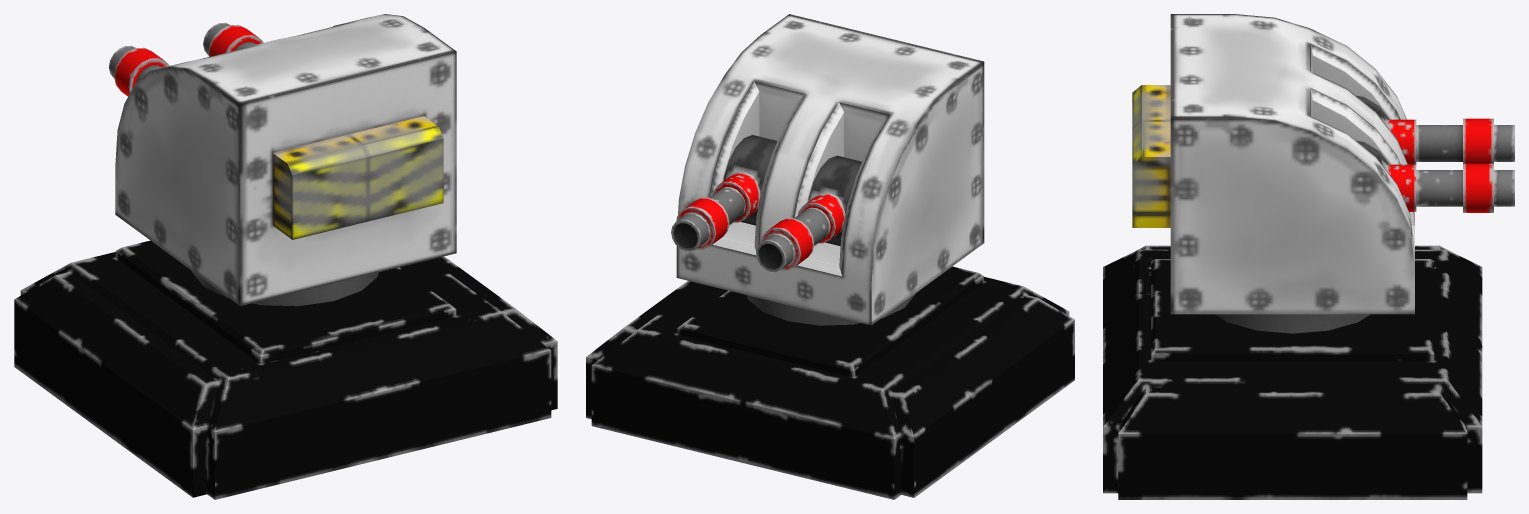
Rendered from turret1.fbx.
3 renders of one model, left to right at view 1: azimuth 30°, elevation 25°; view 2: azimuth 150°, elevation 25°; view 3: azimuth 270°, elevation 25°, orthographic. The views are drawn at different scales.
Visible parts, largest first — view 1: Cube.007, Cube.008, Cylinder.019, Cylinder.016; view 2: Cube.007, Cube.008, Cylinder.019, Cylinder.015, Cylinder.017, Cylinder.016; view 3: Cube.007, Cube.008, Cylinder.019, Cylinder.016, Cylinder.017.
Part boxes in pixels (left/top/right/bottom): Cube.007: left=14, top=240, right=557, bottom=499; Cube.008: left=115, top=14, right=456, bottom=305; Cylinder.019: left=109, top=22, right=263, bottom=96; Cylinder.016: left=191, top=271, right=378, bottom=306; Cube.007: left=586, top=266, right=1074, bottom=499; Cube.008: left=676, top=14, right=984, bottom=325; Cylinder.019: left=671, top=187, right=830, bottom=272; Cylinder.015: left=723, top=135, right=861, bottom=246; Cylinder.017: left=713, top=172, right=845, bottom=243; Cylinder.016: left=747, top=294, right=915, bottom=325; Cube.007: left=1103, top=245, right=1482, bottom=499; Cube.008: left=1132, top=14, right=1414, bottom=314; Cylinder.019: left=1416, top=118, right=1514, bottom=212; Cylinder.016: left=1215, top=314, right=1370, bottom=333; Cylinder.017: left=1385, top=119, right=1416, bottom=211.
Bounding box in the file's own units: 217 × 202 × 217.
